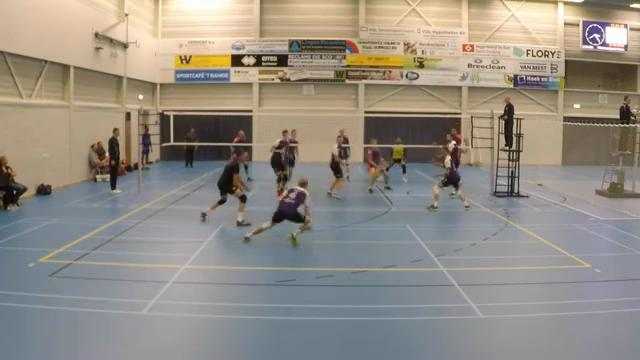Dig: (238, 175, 320, 250)
Player: (201, 150, 250, 226), (428, 140, 469, 210), (367, 139, 391, 192), (270, 130, 288, 195), (327, 136, 342, 198), (386, 138, 406, 182), (286, 129, 298, 180), (446, 129, 461, 169), (339, 129, 350, 180), (450, 128, 462, 167), (242, 156, 252, 181)
ball: (368, 166, 380, 178)
